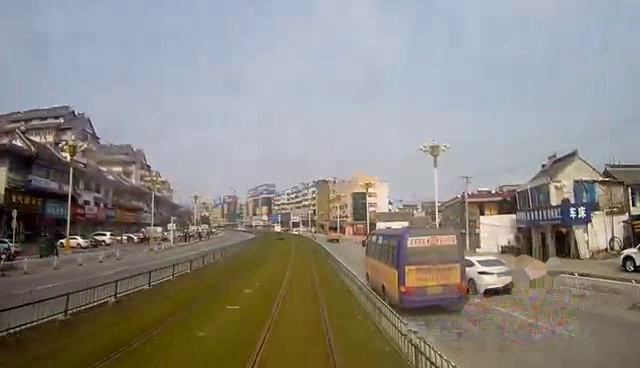bus: (358, 228, 476, 311)
car: (453, 253, 519, 294), (55, 233, 92, 252), (89, 228, 118, 246)
